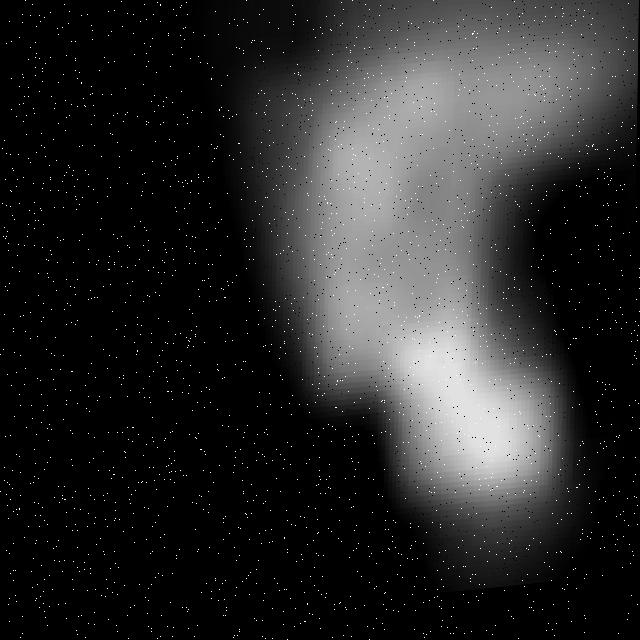person: (243, 1, 612, 579)
